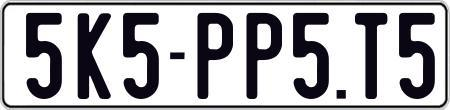5: (23, 12, 65, 104), (120, 13, 160, 105), (290, 13, 331, 102), (398, 12, 436, 104)
K: (77, 12, 114, 103)
P: (246, 13, 285, 104), (196, 10, 235, 100)
T: (353, 12, 387, 99)
